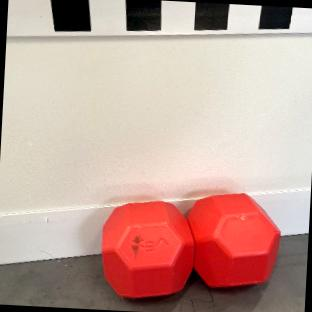V5_RED: (102, 201, 192, 296), (188, 193, 279, 286)
